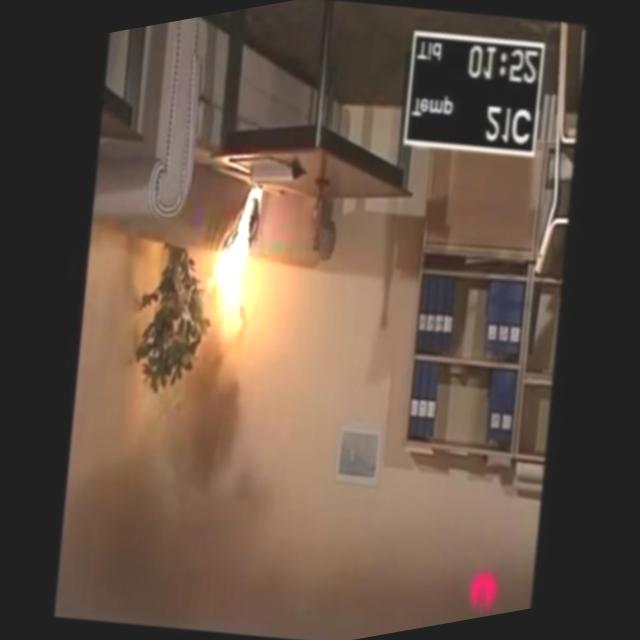fire: (176, 170, 307, 349)
